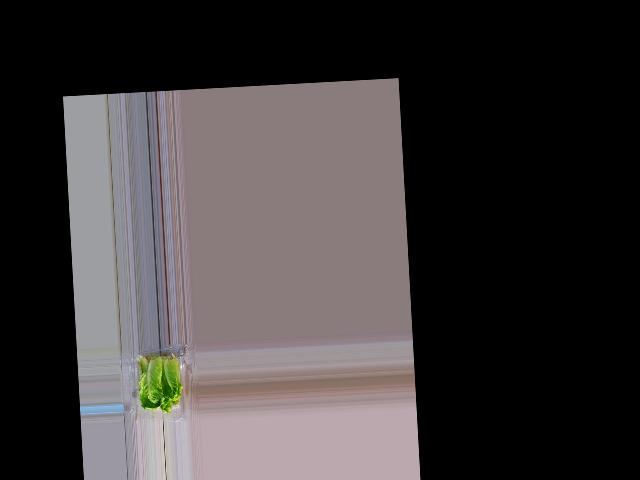lettuce: (137, 355, 183, 414)
